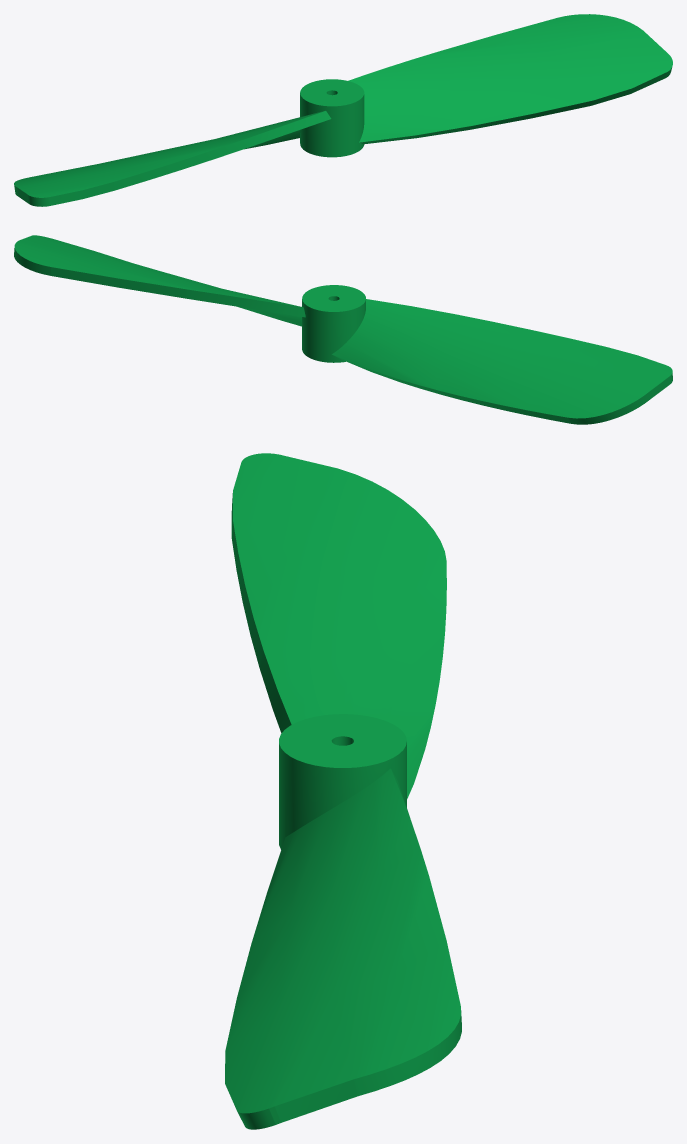
File: crazyflie_prop.dae
The picture shows the model from 3 angles, top to bottom: view 1: azimuth 30°, elevation 25°; view 2: azimuth 150°, elevation 25°; view 3: azimuth 270°, elevation 25°; orthographic projection. The views are drawn at different scales.
Visible parts, largest first — view 1: Propeller_mockup; view 2: Propeller_mockup; view 3: Propeller_mockup.
Part boxes in pixels (left/top/right/bottom): Propeller_mockup: left=14, top=14, right=672, bottom=206; Propeller_mockup: left=14, top=235, right=672, bottom=424; Propeller_mockup: left=225, top=453, right=461, bottom=1129.
Size of the model in its own units: 0.046 by 0.00741 by 0.00352.
